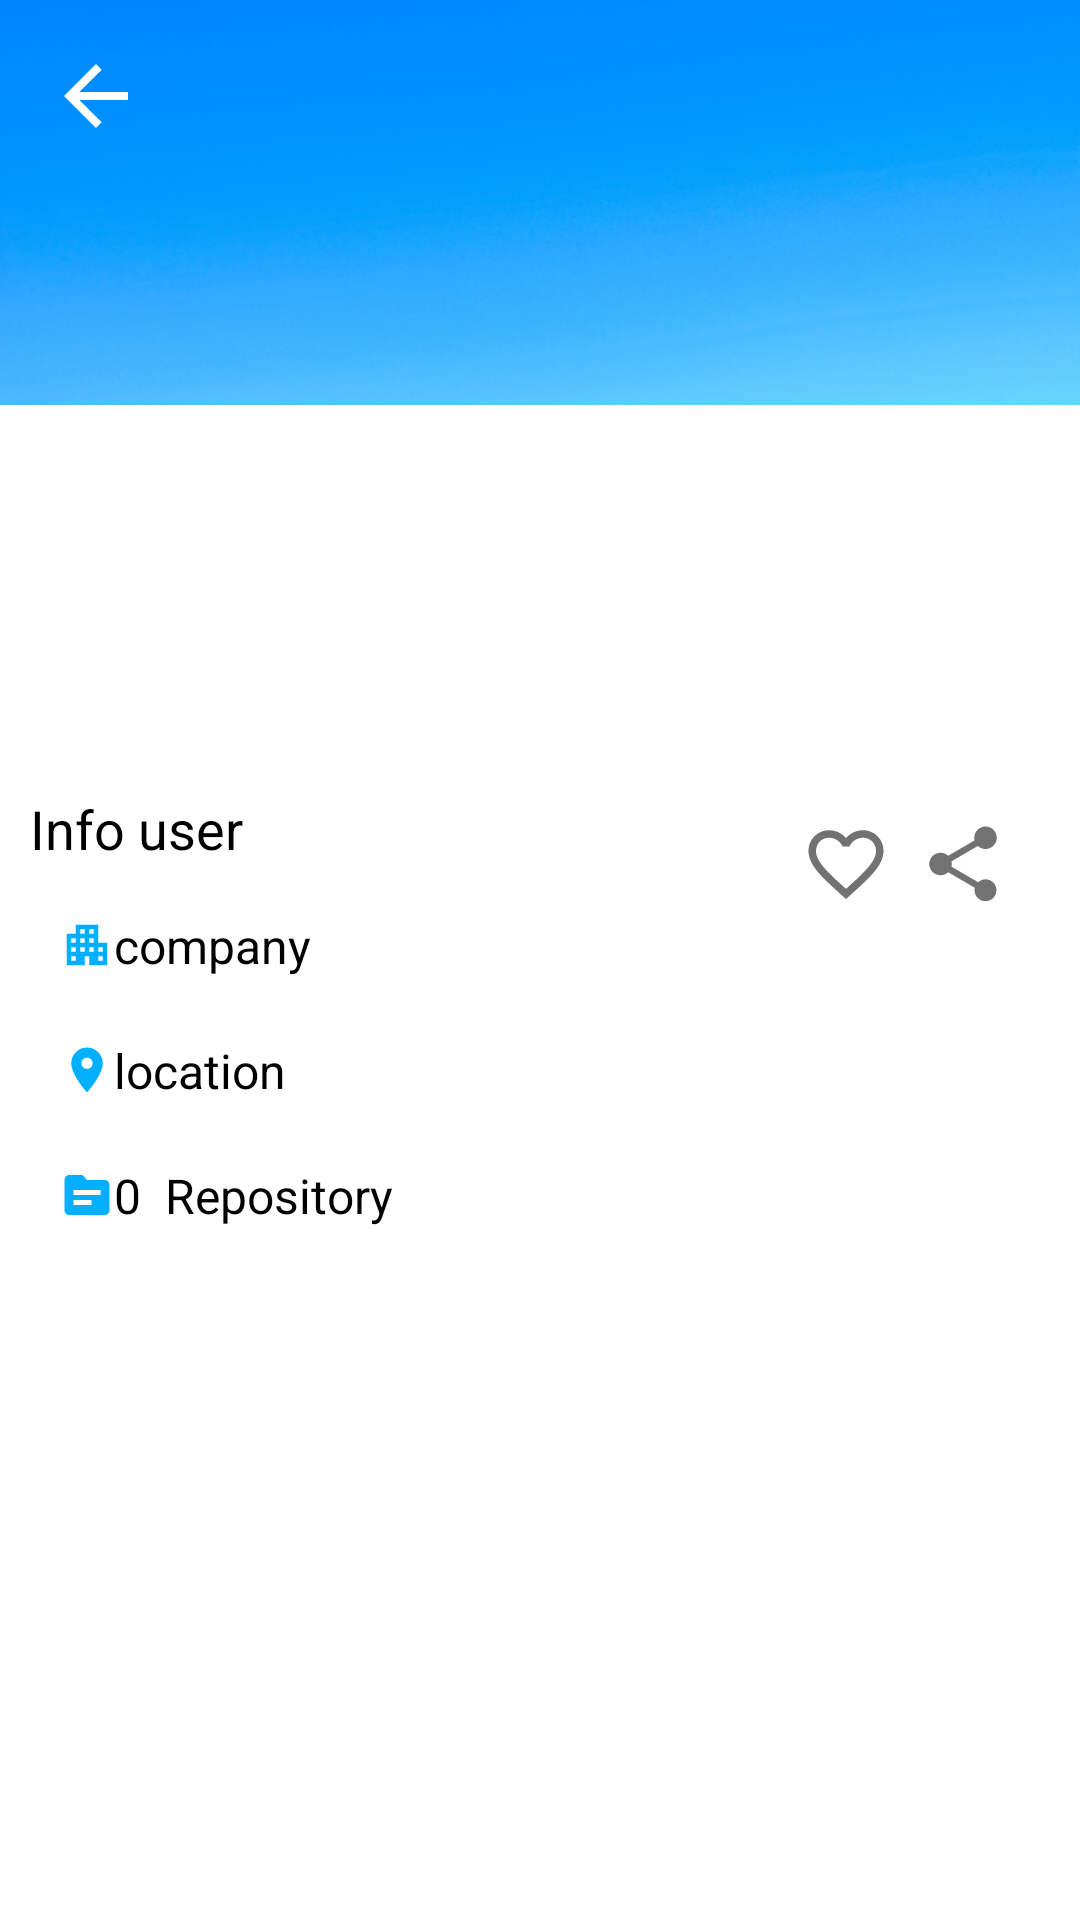

Icons on this 1080×1920 Android screen, each with its box as {"left": x1, "top": y1, "right": x2, "bottom": y2}:
arrow back: {"left": 64, "top": 64, "right": 128, "bottom": 128}
favorite: {"left": 808, "top": 830, "right": 884, "bottom": 899}
share: {"left": 929, "top": 826, "right": 997, "bottom": 902}
